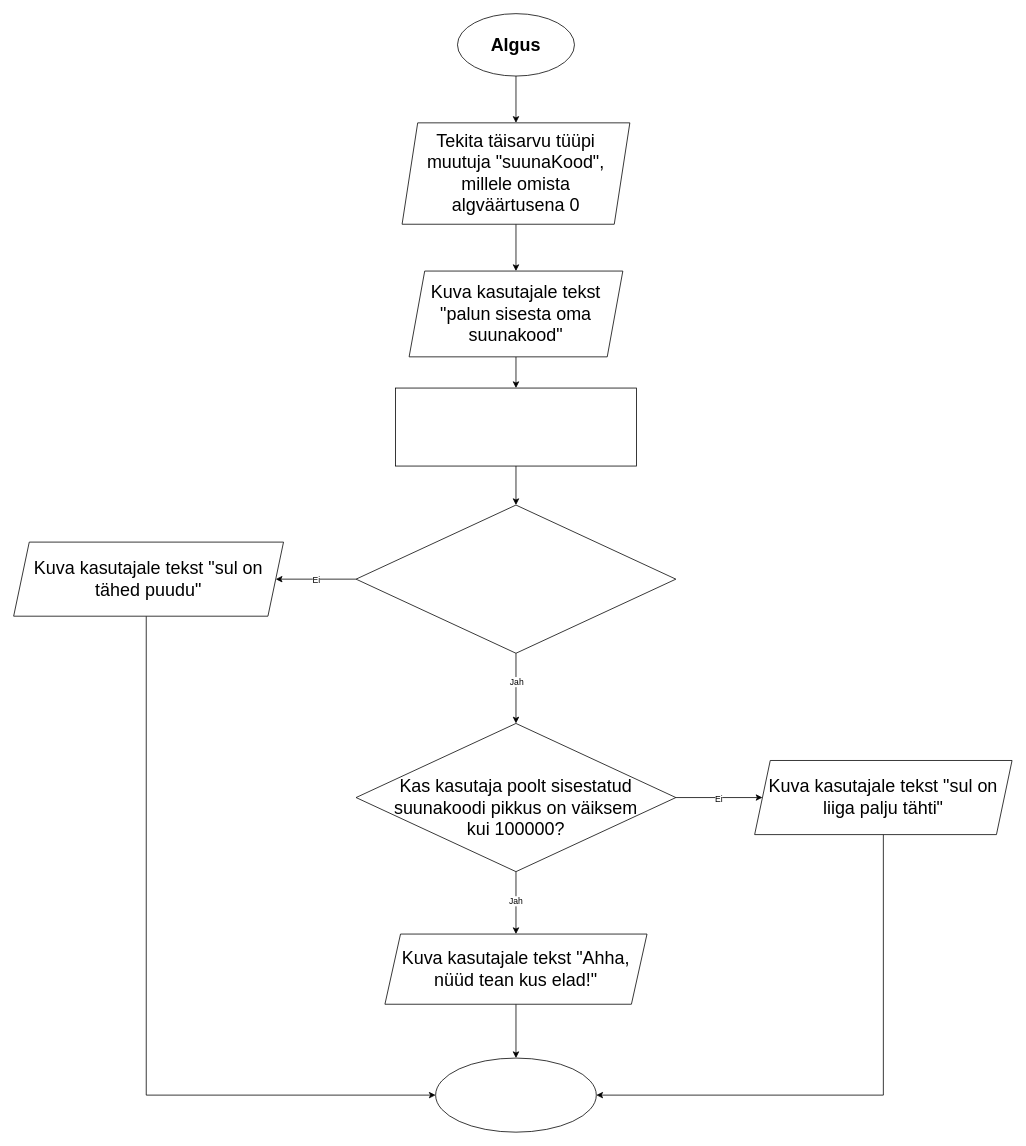
The diagram is 1026 pixels wide and 1146 high, and some of its shapes have lost their labels. Here are the shapes that lost their labels. From the top down, the centre of each, then its label:
[515,426]: Oota kuni kasutaja sisestab muutujasse "suunaKood" sisestuse
[515,578]: Kas kasutaja poolt sisestatud suunakoodi pikkus on suurem kui 9999?
[515,1094]: Lõpp
